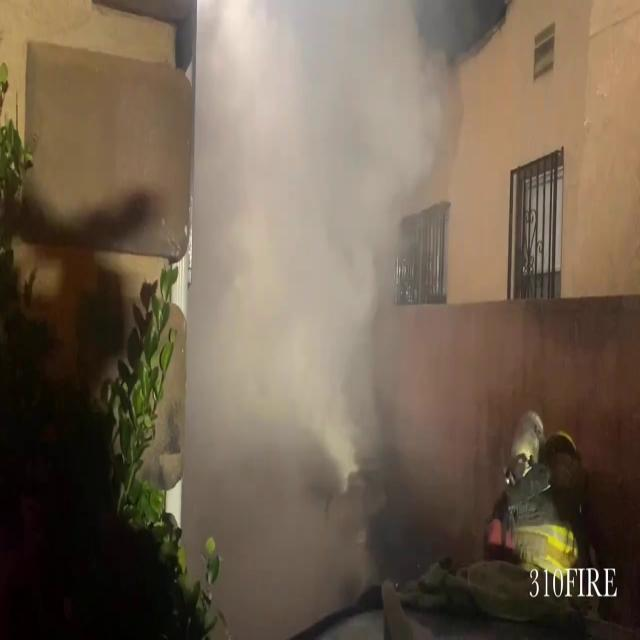Smoke: (192, 0, 506, 576)
